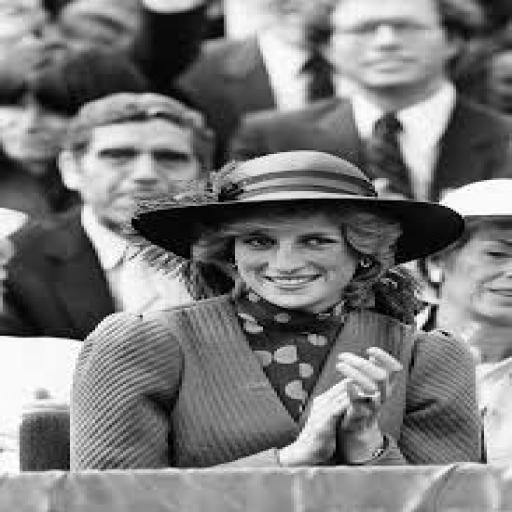clapping: (68, 128, 512, 512)
